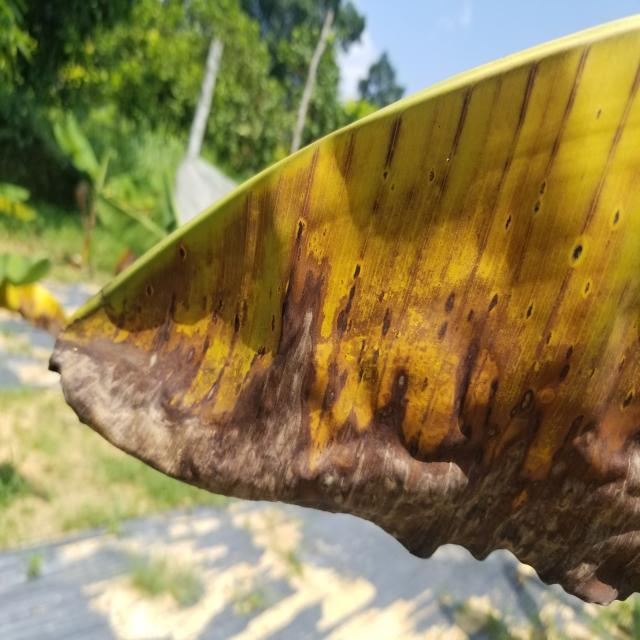Early_rust: (53, 14, 640, 532), (0, 258, 68, 349)
